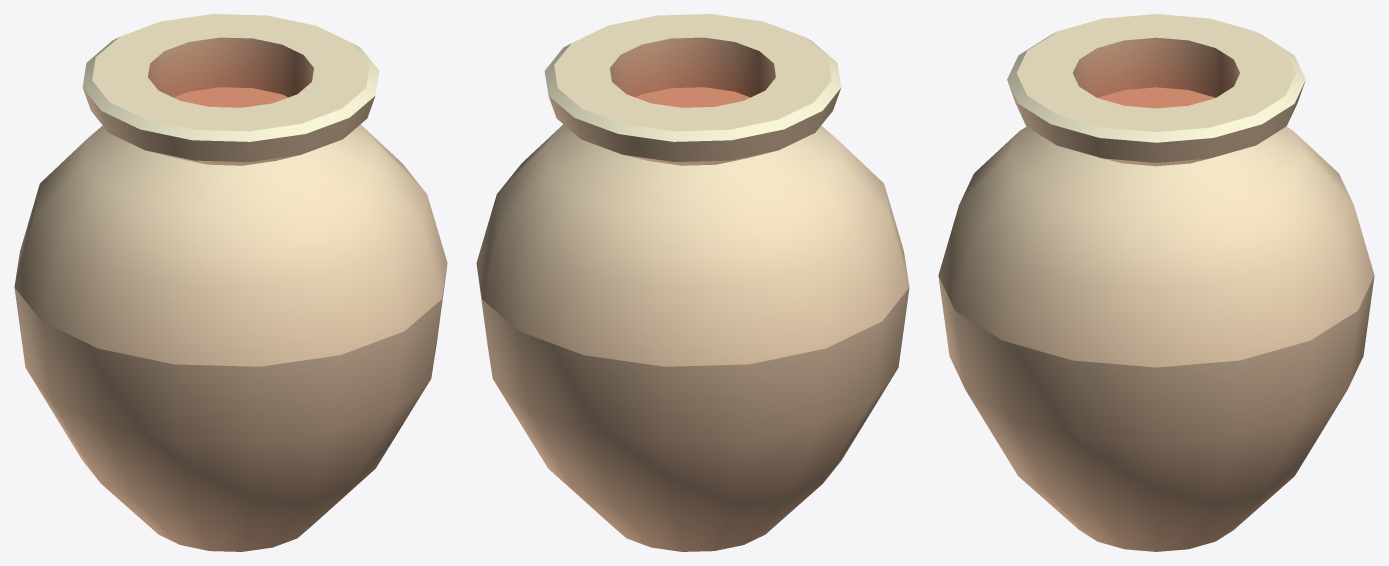
File: Unflamed_Pot.FBX
The picture shows the model from 3 angles, left to right: view 1: azimuth 30°, elevation 25°; view 2: azimuth 150°, elevation 25°; view 3: azimuth 270°, elevation 25°; orthographic projection.
Visible parts, largest first — view 1: Unflamed_Pot; view 2: Unflamed_Pot; view 3: Unflamed_Pot.
Boxes of the visible parts, x1,y1,x2,y2 form: Unflamed_Pot: (14,14,447,551); Unflamed_Pot: (476,14,909,551); Unflamed_Pot: (938,14,1374,551).
Size of the model in its own units: 0.7001 by 0.7856 by 0.7001.
